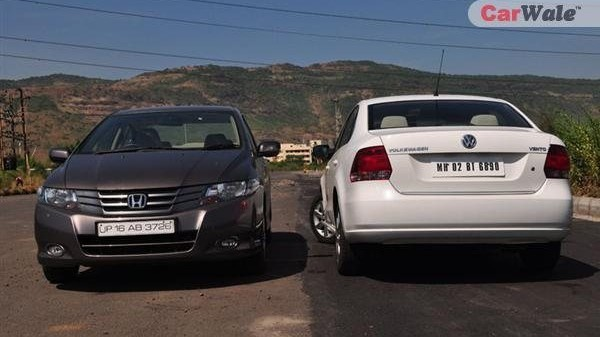plate: (413, 144, 520, 186)
